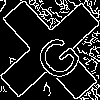G: (25, 25, 85, 85)
